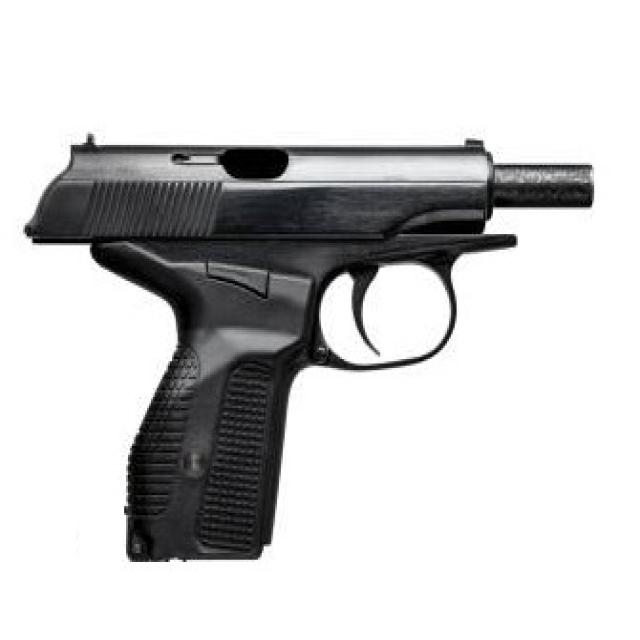pistol: (10, 127, 597, 571)
